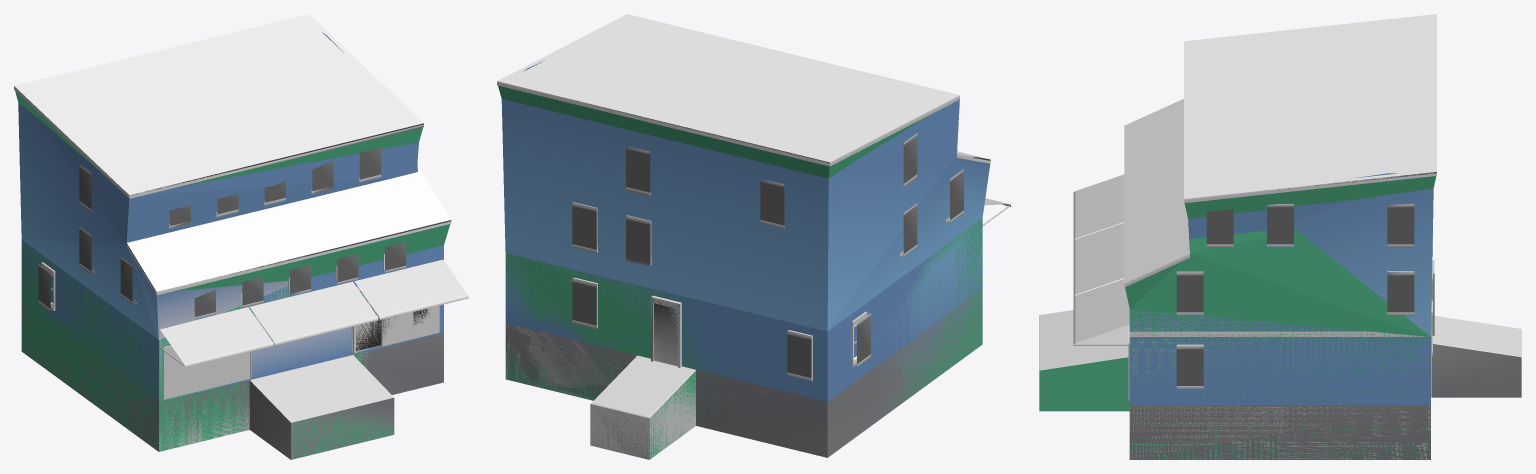
The model's file is eca_bld_shop_town_b.dae.
The picture shows the model from 3 angles, left to right: view 1: azimuth 30°, elevation 25°; view 2: azimuth 150°, elevation 25°; view 3: azimuth 270°, elevation 25°; orthographic projection. The views are drawn at different scales.
Parts seen in each view (by area): view 1: ind_bld_a400, ind_bld_a60, ind_bld_a100, Colmesh-1; view 2: ind_bld_a60, ind_bld_a400, ind_bld_a100, Colmesh-1; view 3: ind_bld_a400, ind_bld_a100, Colmesh-1, ind_bld_a60.
Boxes of the visible parts, x1,y1,x2,y2 form: ind_bld_a400: (14,14,468,451); ind_bld_a60: (18,103,418,449); ind_bld_a100: (21,123,451,459); Colmesh-1: (15,91,450,459); ind_bld_a60: (501,99,990,414); ind_bld_a400: (497,14,1009,459); ind_bld_a100: (541,92,1010,459); Colmesh-1: (498,85,982,459); ind_bld_a400: (1039,14,1521,459); ind_bld_a100: (1074,172,1521,459); Colmesh-1: (1039,176,1436,459); ind_bld_a60: (1130,188,1433,459).
Size of the model in its own units: 12.4 by 16.01 by 10.65.
